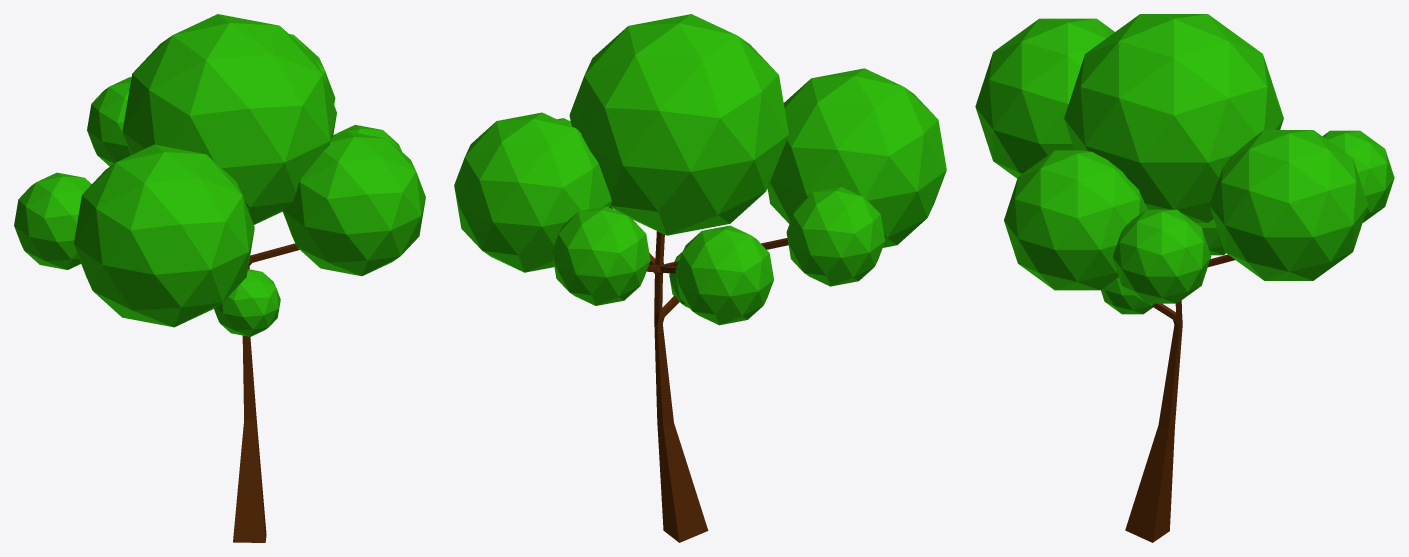
Rendered from SmallerTree.fbx.
3 renders of one model, left to right at view 1: azimuth 30°, elevation 25°; view 2: azimuth 150°, elevation 25°; view 3: azimuth 270°, elevation 25°, orthographic. The views are drawn at different scales.
Visible parts, largest first — view 1: Icosphere.008, Icosphere.004, Icosphere.002, Icosphere.005, Cube, Icosphere.007, Icosphere.001; view 2: Icosphere.008, Icosphere.004, Icosphere, Icosphere.006, Icosphere.001, Icosphere.005, Cube; view 3: Icosphere.008, Icosphere, Icosphere.002, Icosphere.004, Icosphere.003, Cube, Icosphere.001, Icosphere.007, Icosphere.006.
Boxes of the visible parts, x1=… form: Icosphere.008: x1=122, y1=14, x2=336, y2=224; Icosphere.004: x1=74, y1=144, x2=254, y2=327; Icosphere.002: x1=282, y1=131, x2=425, y2=276; Icosphere.005: x1=14, y1=172, x2=91, y2=269; Cube: x1=233, y1=243, x2=299, y2=542; Icosphere.007: x1=214, y1=269, x2=280, y2=336; Icosphere.001: x1=87, y1=77, x2=131, y2=166; Icosphere.008: x1=569, y1=14, x2=788, y2=235; Icosphere.004: x1=767, y1=68, x2=946, y2=247; Icosphere: x1=454, y1=112, x2=611, y2=272; Icosphere.006: x1=675, y1=225, x2=773, y2=325; Icosphere.001: x1=552, y1=206, x2=650, y2=305; Icosphere.005: x1=786, y1=187, x2=884, y2=286; Cube: x1=610, y1=206, x2=788, y2=542; Icosphere.008: x1=1064, y1=14, x2=1283, y2=222; Icosphere: x1=1209, y1=130, x2=1368, y2=280; Icosphere.002: x1=1004, y1=150, x2=1147, y2=290; Icosphere.004: x1=975, y1=18, x2=1114, y2=178; Icosphere.003: x1=1113, y1=209, x2=1211, y2=303; Cube: x1=1125, y1=254, x2=1234, y2=542; Icosphere.001: x1=1322, y1=130, x2=1394, y2=222; Icosphere.007: x1=1101, y1=277, x2=1154, y2=314; Icosphere.006: x1=1196, y1=219, x2=1225, y2=255.
Bounding box in the file's own units: 919 × 1224 × 909.
